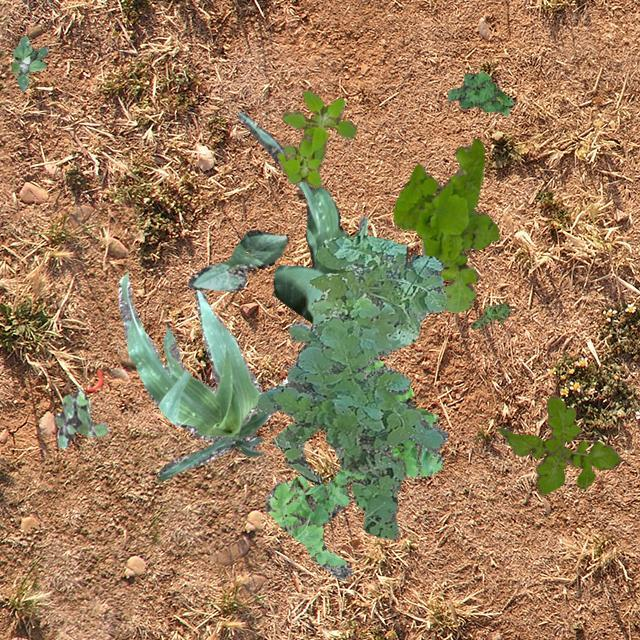crop: (118, 272, 288, 480), (238, 112, 368, 324), (186, 228, 288, 290)
weed: (256, 234, 447, 538), (264, 360, 442, 578), (392, 138, 498, 312), (498, 394, 620, 494), (276, 90, 356, 188), (272, 419, 376, 484), (54, 387, 108, 448), (446, 70, 512, 114), (10, 34, 48, 90), (470, 302, 510, 328)
